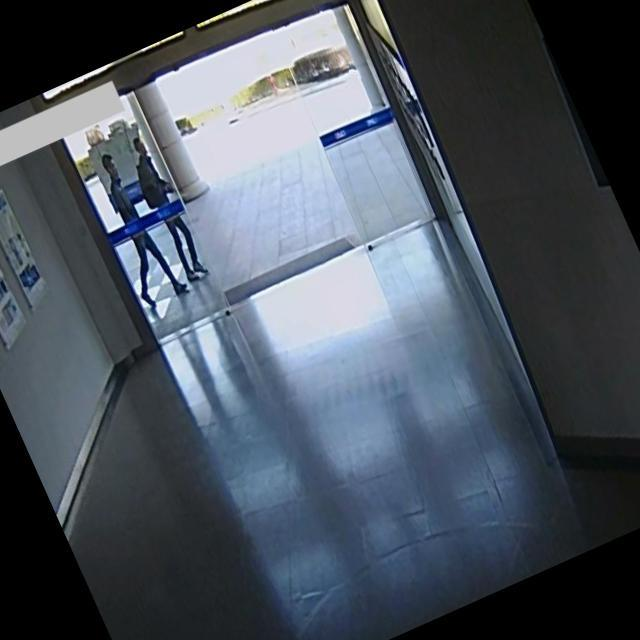person: (76, 133, 193, 324), (113, 118, 214, 288)
